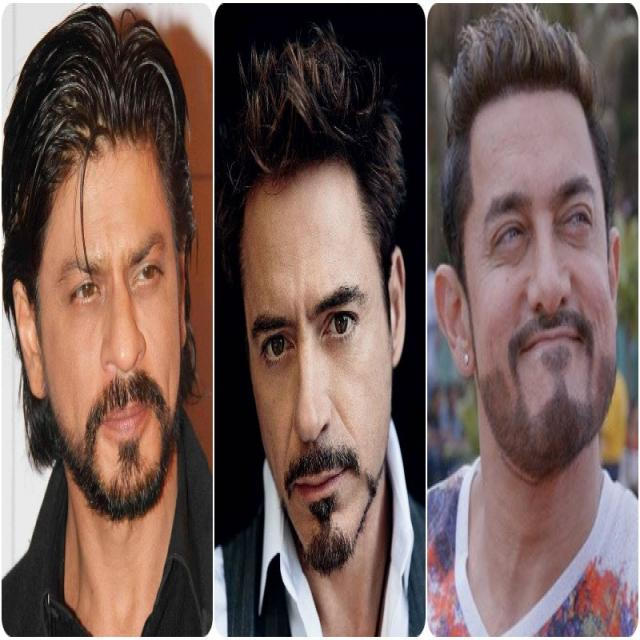beard: (478, 309, 617, 480), (58, 370, 178, 523), (303, 475, 380, 576), (285, 445, 361, 497)
hair: (3, 5, 194, 285), (217, 27, 406, 305), (442, 5, 614, 279)
